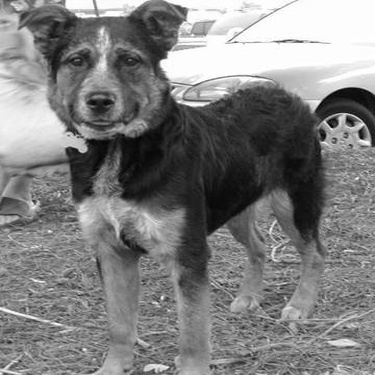dog: (1, 6, 92, 175)
